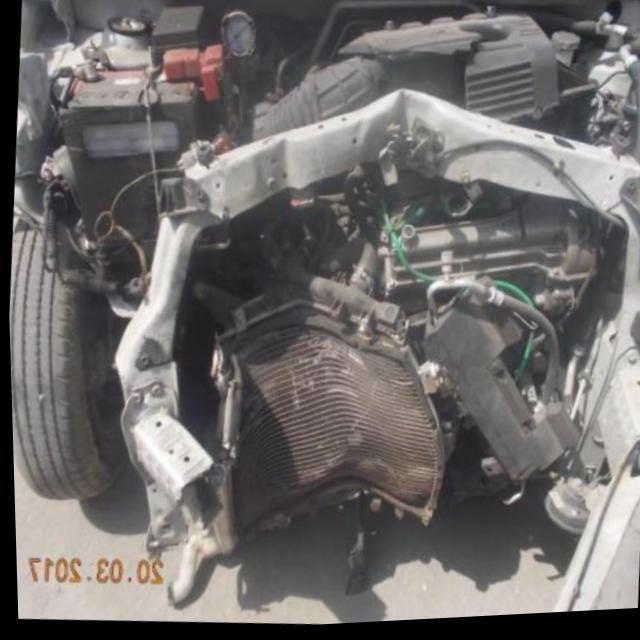no part: (7, 0, 640, 535)
